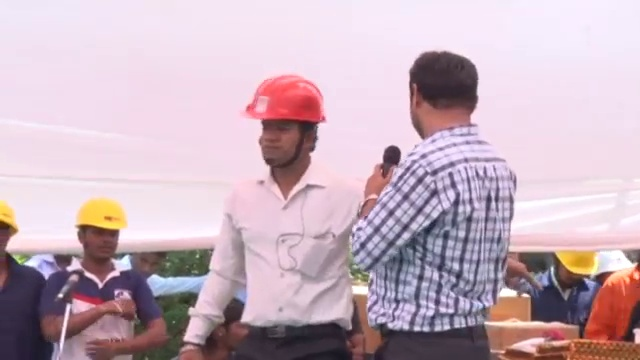helmet: (70, 201, 128, 233), (555, 252, 601, 279), (0, 200, 22, 235)
helmet_off: (399, 55, 488, 136), (133, 250, 163, 286)
helmet_on: (235, 72, 338, 199), (70, 204, 129, 270), (552, 254, 603, 297), (0, 197, 23, 260)
person: (342, 41, 537, 360), (171, 73, 365, 360), (40, 203, 169, 359), (183, 210, 295, 347), (1, 203, 48, 360), (523, 249, 606, 321), (585, 256, 640, 341)
